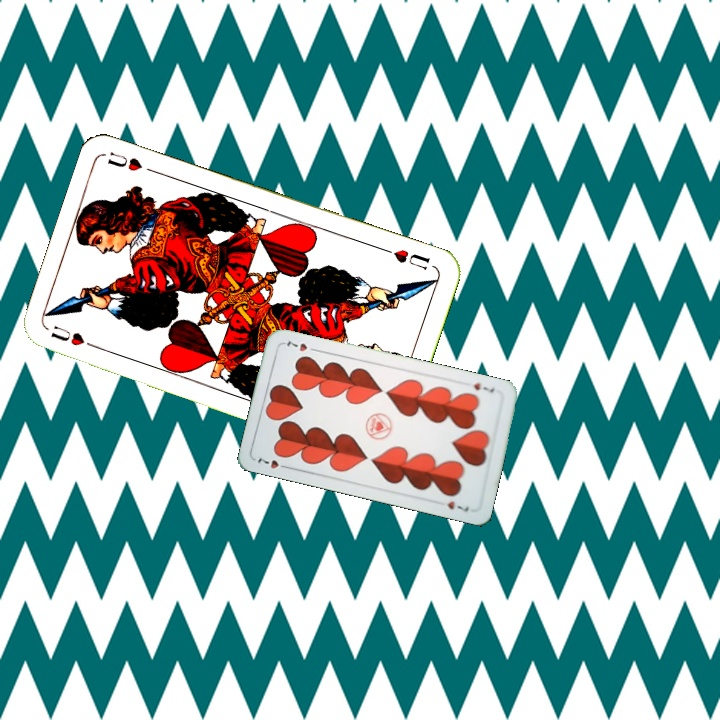H7: (253, 453, 292, 471), (468, 378, 497, 396)
HU: (47, 321, 102, 352), (379, 244, 433, 273)
